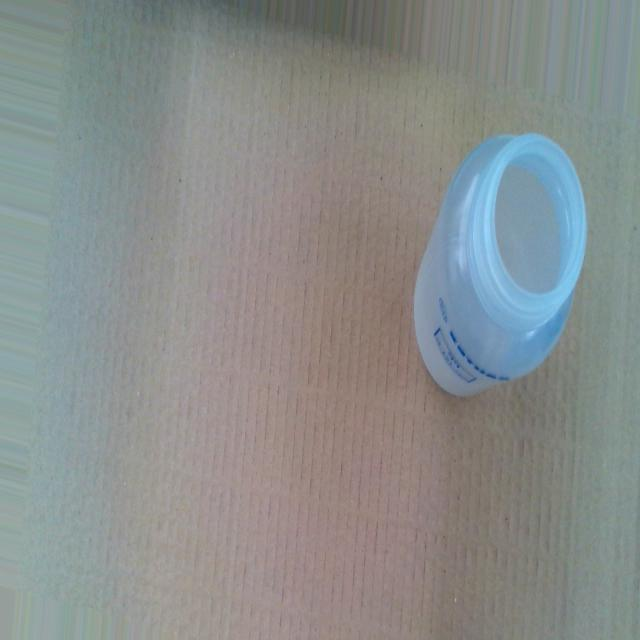bottle: (410, 128, 591, 405)
